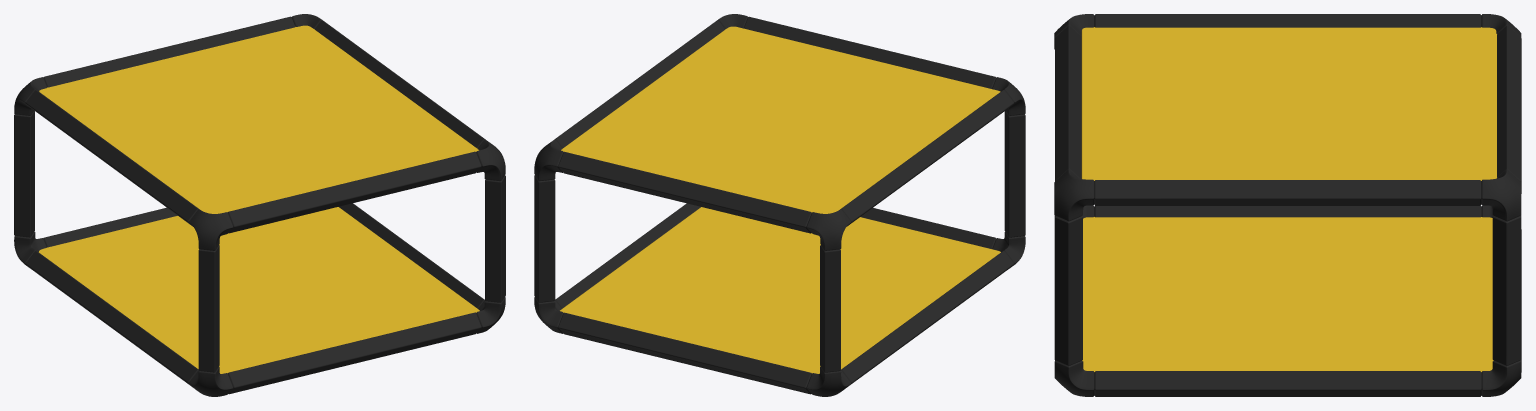
3 views of the same model, side by side, from view 1: azimuth 30°, elevation 25°; view 2: azimuth 150°, elevation 25°; view 3: azimuth 270°, elevation 25° (orthographic). The views are drawn at different scales.
Visible parts, largest first — view 1: 329x374x154; view 2: 329x374x154; view 3: 329x374x154.
Boxes of the visible parts, x1=… form: 329x374x154: x1=14, y1=14, x2=505, y2=396; 329x374x154: x1=534, y1=14, x2=1025, y2=396; 329x374x154: x1=1054, y1=14, x2=1521, y2=396.
Size of the model in its own units: 0.4067 by 0.2316 by 0.4513.
